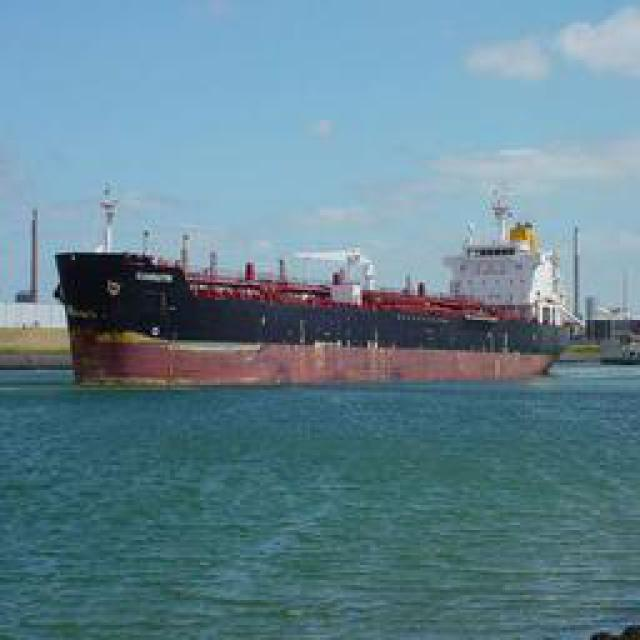Ship: (35, 192, 590, 390)
